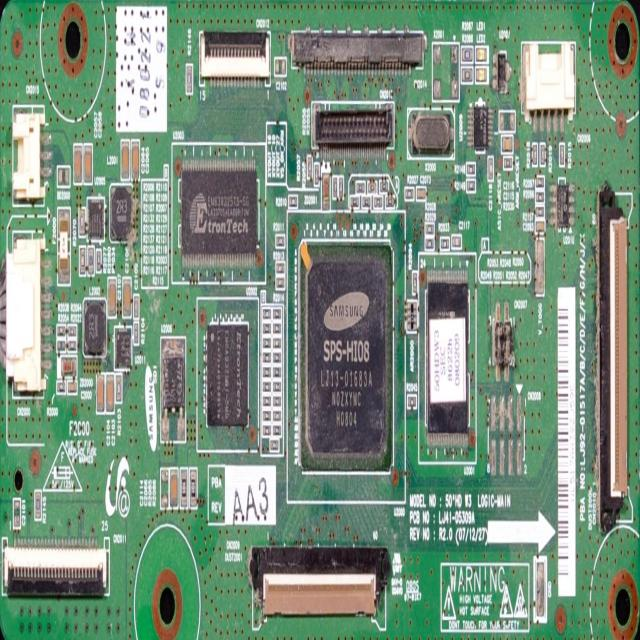Capacitor Jumper: (74, 145, 82, 182), (97, 375, 104, 411), (123, 280, 130, 315), (85, 143, 91, 182), (171, 472, 177, 506), (132, 143, 138, 176), (13, 499, 20, 526), (110, 278, 115, 314), (276, 58, 286, 73), (502, 136, 512, 150), (122, 141, 126, 175), (108, 377, 112, 409), (416, 188, 426, 200), (452, 238, 460, 250), (488, 160, 492, 182), (135, 295, 138, 318), (68, 383, 76, 391), (538, 224, 543, 232)
IC: (300, 242, 393, 470), (182, 159, 256, 263), (428, 269, 468, 443), (208, 321, 248, 426), (163, 343, 186, 428), (87, 194, 105, 238), (116, 330, 132, 370), (474, 106, 488, 144), (558, 185, 570, 226), (498, 54, 508, 90)
Resistor Jumper: (190, 470, 196, 505), (462, 47, 474, 63), (181, 469, 186, 504), (115, 373, 121, 401), (184, 64, 190, 91), (35, 486, 40, 516), (461, 68, 473, 80), (80, 247, 85, 273), (89, 248, 94, 274), (440, 236, 448, 251), (290, 195, 299, 208), (57, 339, 67, 350), (80, 208, 84, 234), (277, 234, 285, 247), (68, 336, 76, 348), (559, 145, 564, 164), (413, 273, 418, 292), (540, 140, 544, 163), (532, 141, 536, 164), (376, 197, 384, 208), (97, 250, 101, 271), (277, 260, 284, 272), (504, 159, 512, 169), (314, 166, 318, 186), (277, 276, 285, 286), (57, 381, 65, 391), (408, 396, 415, 407), (134, 325, 138, 344), (308, 159, 312, 177), (405, 188, 414, 196), (424, 224, 432, 233), (467, 164, 474, 173), (58, 326, 65, 335), (381, 182, 387, 192), (264, 322, 270, 332), (274, 380, 280, 390), (387, 196, 395, 203), (263, 424, 270, 432), (538, 195, 544, 204), (352, 197, 358, 206), (274, 308, 280, 317), (370, 180, 375, 190), (536, 180, 542, 188), (469, 182, 475, 190), (68, 328, 76, 334), (264, 339, 270, 347), (275, 350, 281, 358), (274, 412, 280, 420), (334, 175, 336, 198), (357, 184, 363, 191), (274, 398, 280, 405), (340, 177, 342, 197), (536, 211, 544, 216), (275, 366, 280, 374), (362, 200, 368, 206), (264, 309, 270, 315), (263, 398, 269, 404), (275, 426, 279, 435), (273, 439, 277, 448), (265, 354, 270, 361), (265, 369, 271, 374), (265, 409, 270, 415), (426, 242, 432, 246), (274, 327, 280, 331), (275, 340, 279, 346), (265, 382, 269, 386)
